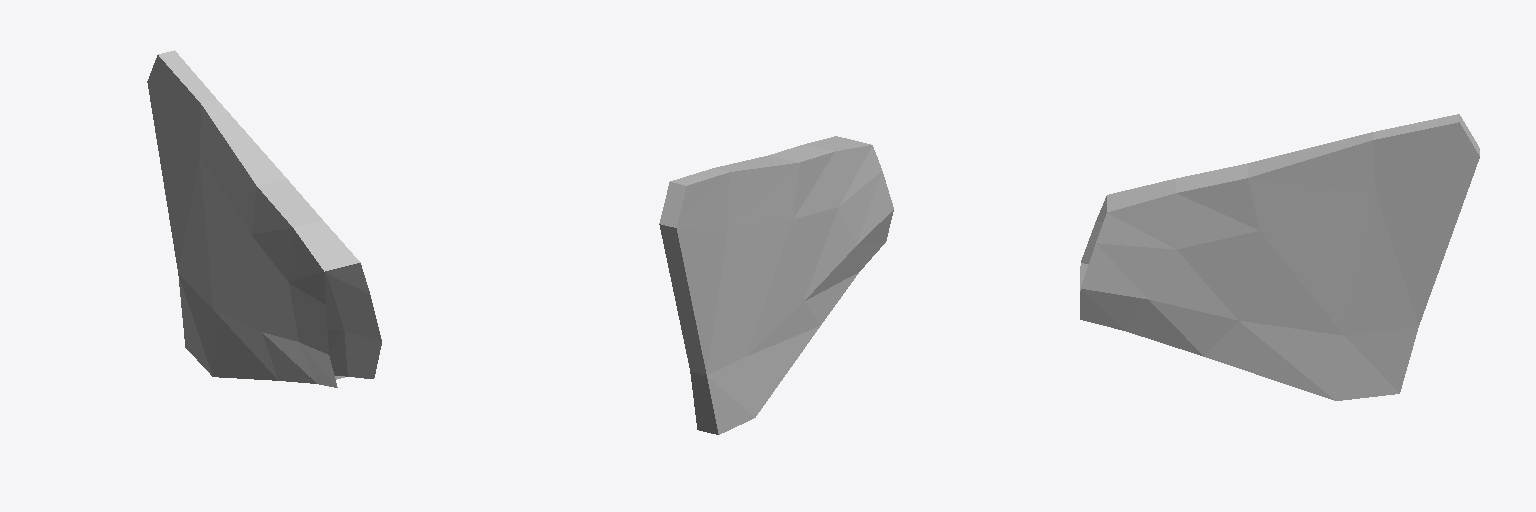
File: PezC2.obj
The picture shows the model from 3 angles: view 1: azimuth 30°, elevation 25°; view 2: azimuth 150°, elevation 25°; view 3: azimuth 270°, elevation 25°; orthographic projection.
Parts seen in each view (by area): view 1: polySurface2 TropicalFish10:TropicalFish10; view 2: polySurface2 TropicalFish10:TropicalFish10; view 3: polySurface2 TropicalFish10:TropicalFish10.
Boxes of the visible parts, box(x1,y1,x2,y2) form: polySurface2 TropicalFish10:TropicalFish10: box(147, 50, 381, 387); polySurface2 TropicalFish10:TropicalFish10: box(659, 136, 893, 434); polySurface2 TropicalFish10:TropicalFish10: box(1080, 114, 1479, 400).
Size of the model in its own units: 0.3703 by 1.84 by 2.42.